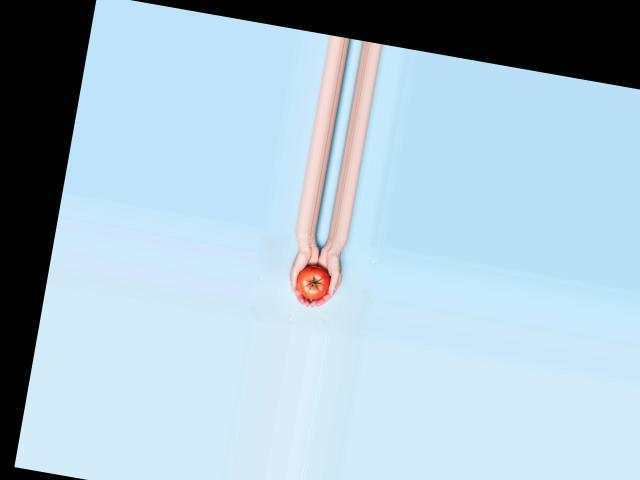tomato: (294, 262, 333, 301)
